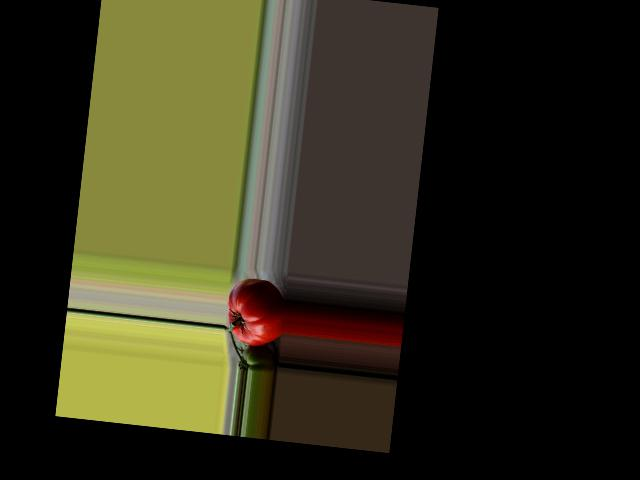tomato: (224, 275, 288, 348)
